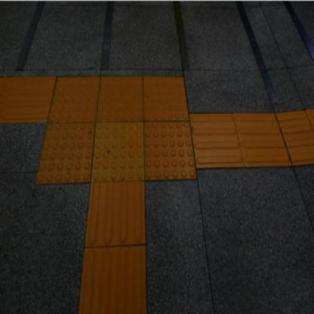Podoctatil: (22, 50, 216, 214), (76, 186, 146, 314), (198, 107, 314, 169), (0, 74, 48, 123)
